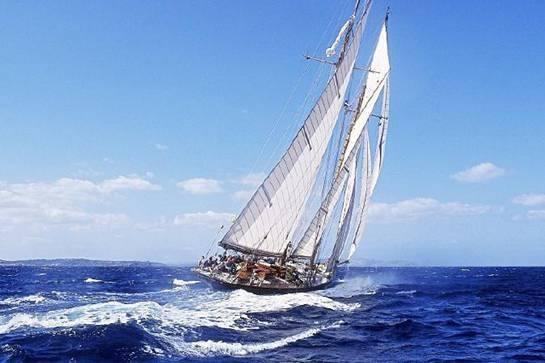fanchuan: (193, 1, 393, 294)
